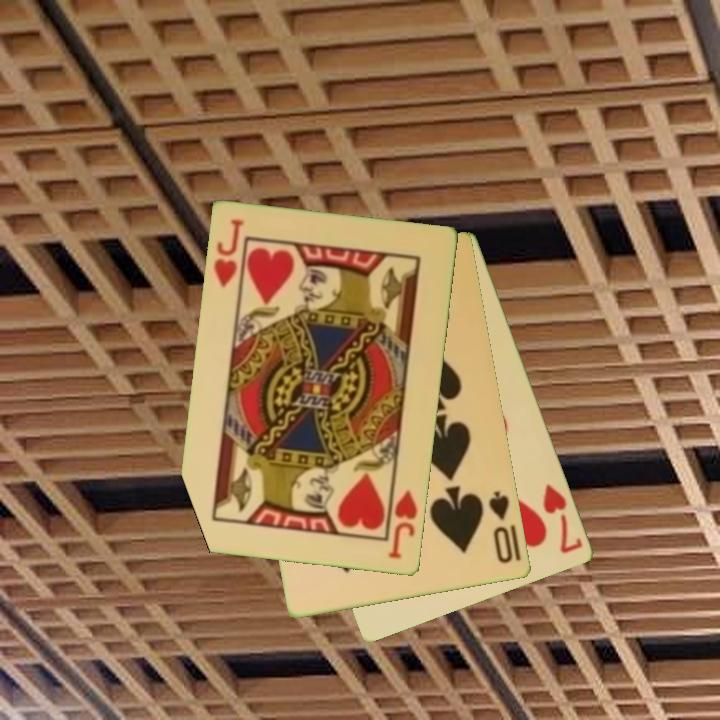10s: (485, 487, 517, 567)
7h: (539, 480, 586, 557)
Jh: (210, 216, 247, 291), (385, 487, 421, 562)
